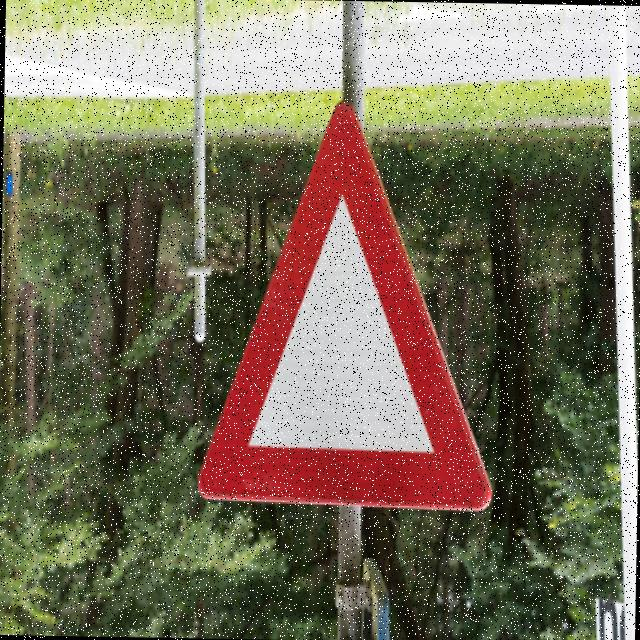give_way: (183, 73, 501, 534)
